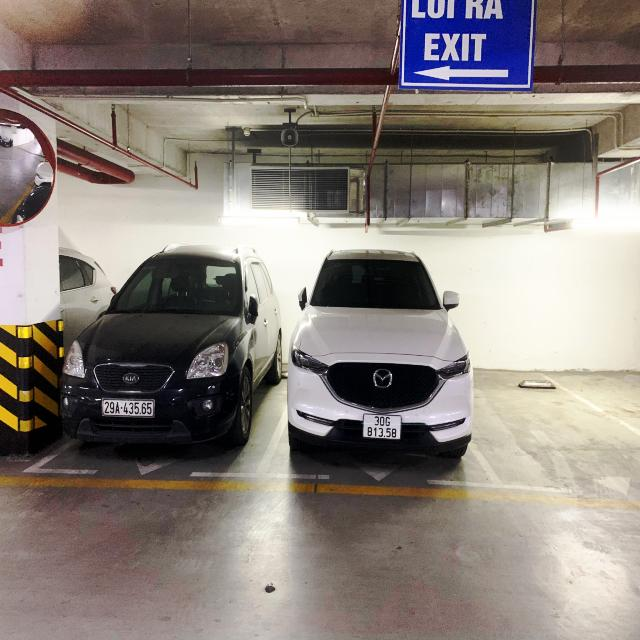license_plate: (102, 399, 157, 420), (363, 414, 403, 441)
